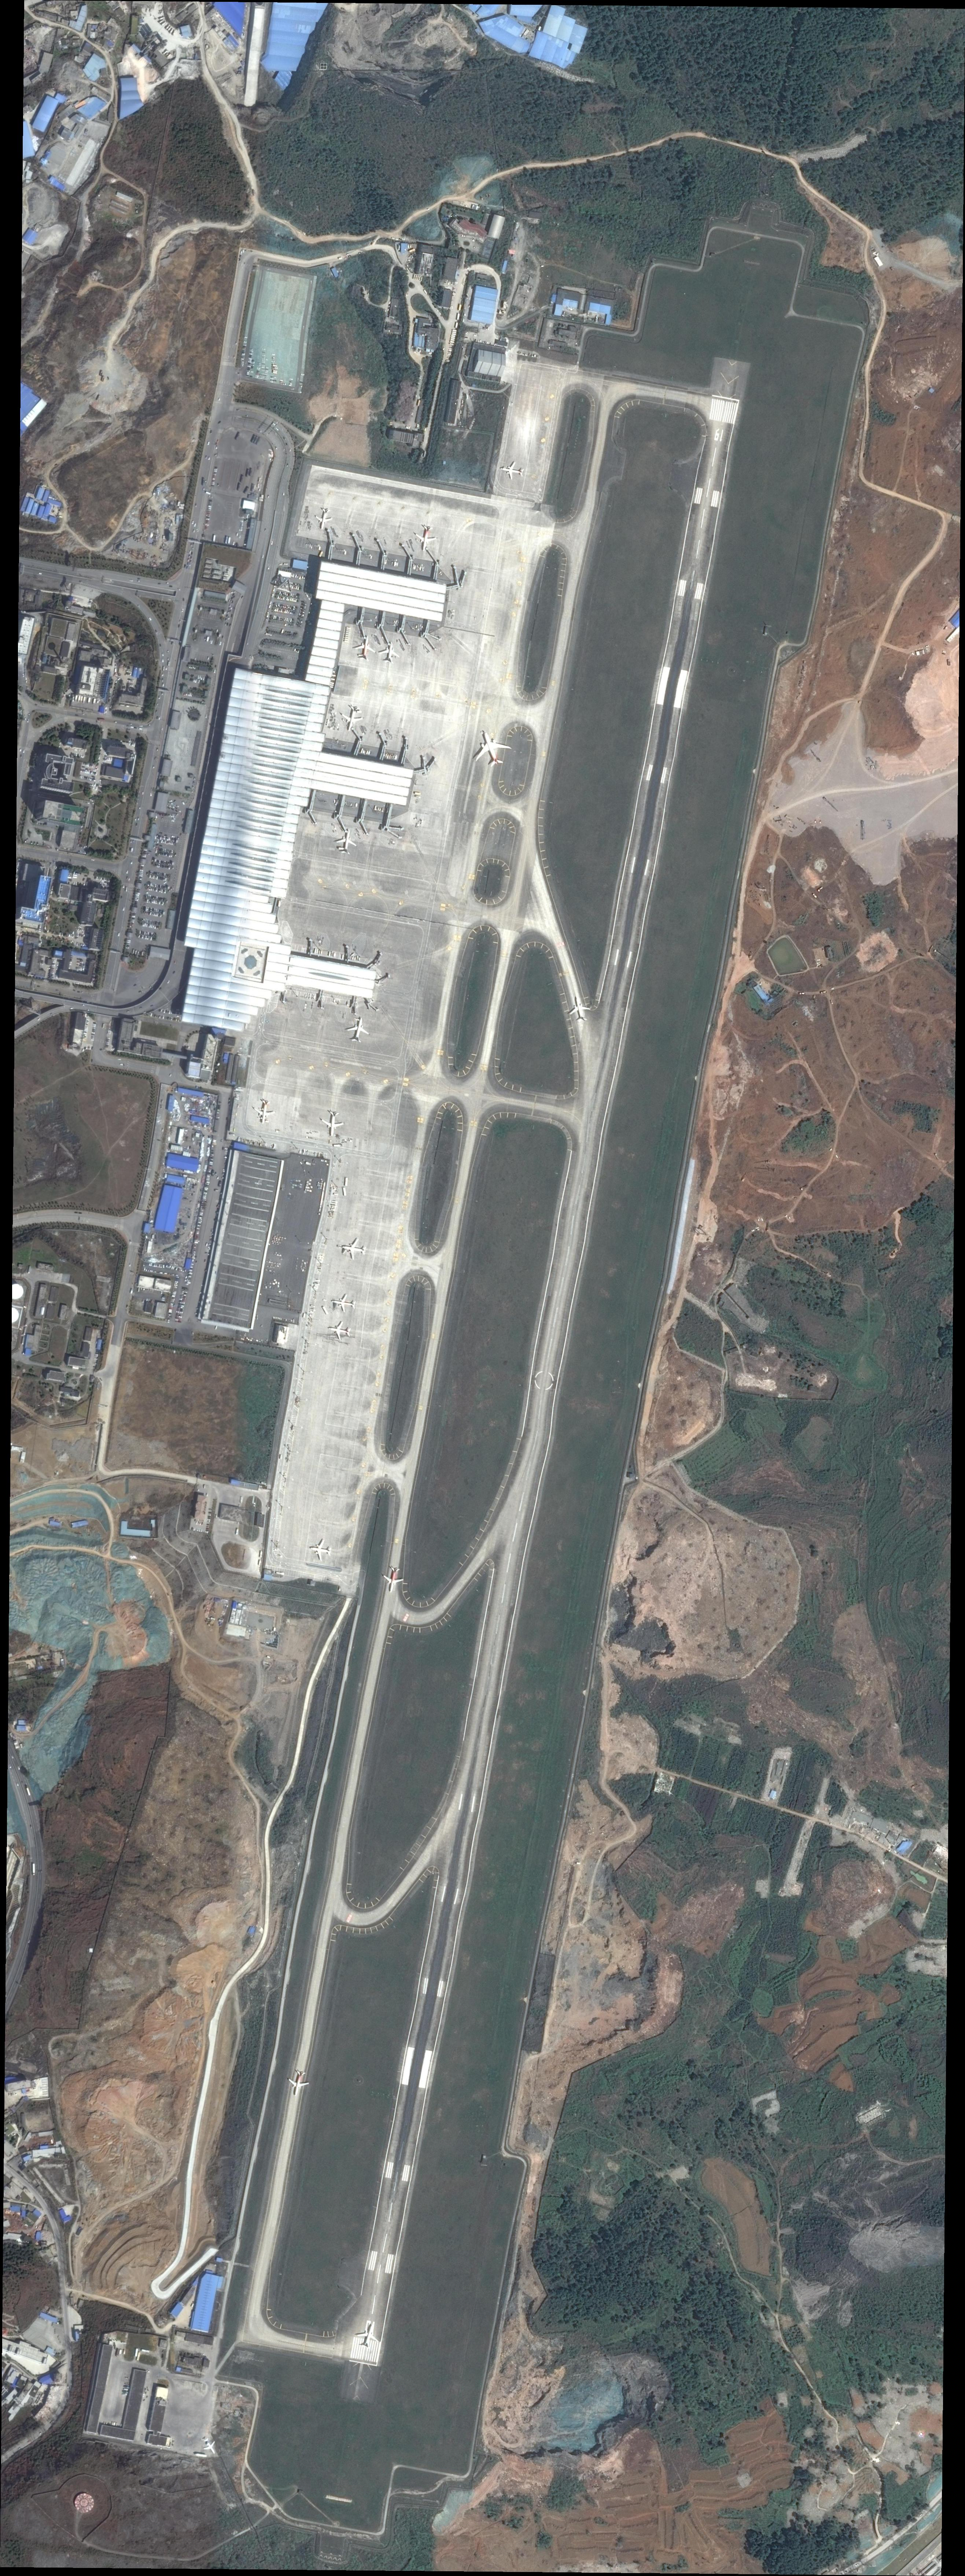plane: (469, 726, 518, 774), (342, 1015, 373, 1045), (353, 2320, 383, 2349), (339, 705, 368, 734), (566, 994, 593, 1025), (284, 2067, 312, 2098), (413, 524, 441, 554), (350, 634, 378, 662), (380, 1564, 406, 1594), (319, 1109, 345, 1137), (332, 828, 358, 856), (252, 1097, 276, 1125), (340, 1237, 367, 1262), (498, 460, 528, 481), (309, 1538, 334, 1562), (327, 1319, 353, 1342), (376, 641, 403, 664), (329, 1293, 357, 1314), (199, 2435, 220, 2459), (314, 506, 334, 531)
